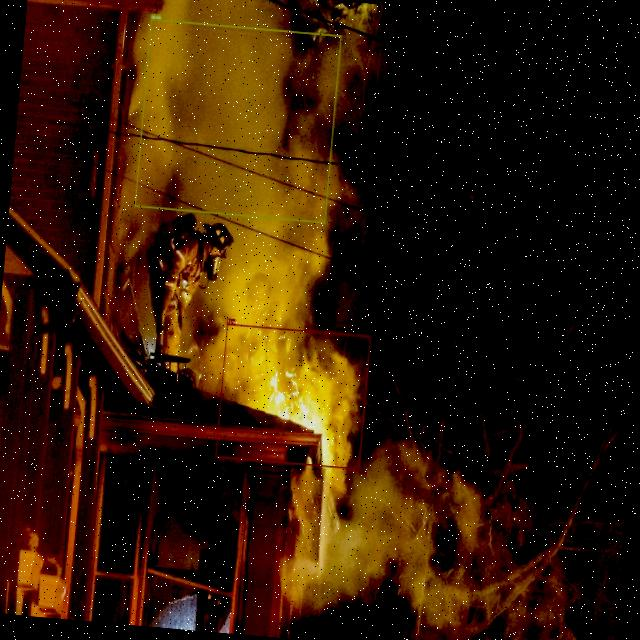fire: (215, 323, 371, 469)
smoke: (134, 18, 342, 223)
